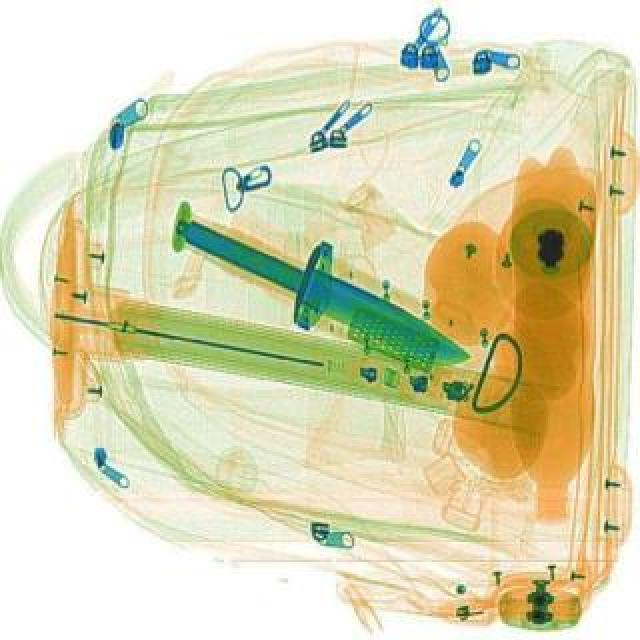knife: (172, 208, 480, 374)
